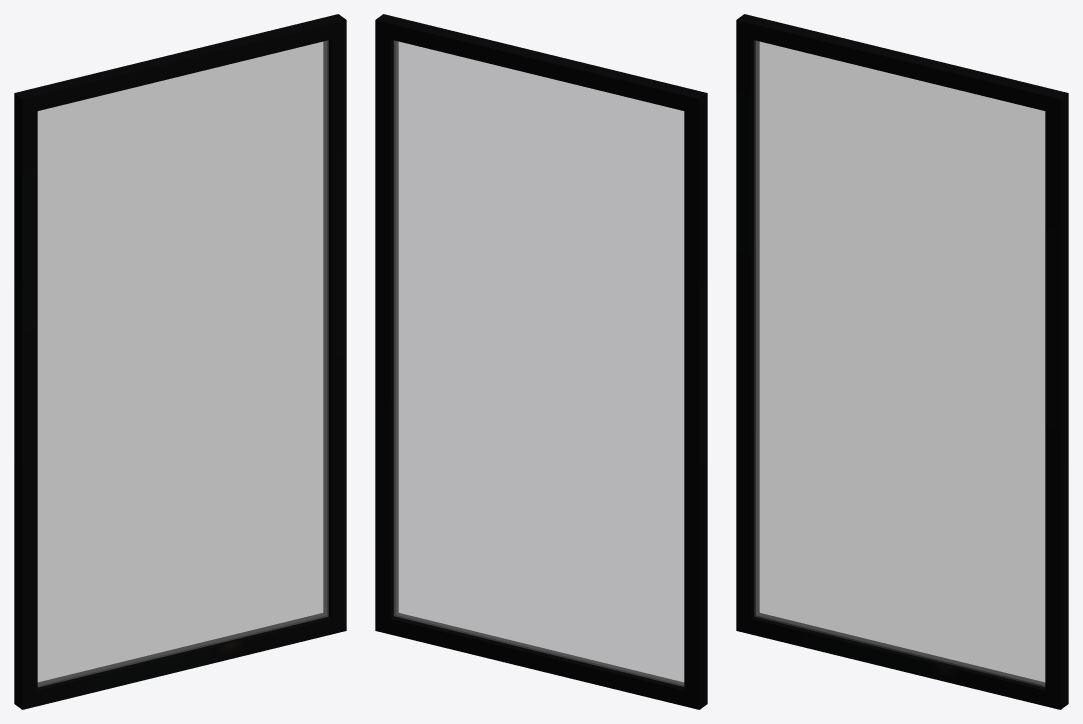
The model's file is door.glb.
The picture shows the model from 3 angles, left to right: view 1: azimuth 30°, elevation 25°; view 2: azimuth 150°, elevation 25°; view 3: azimuth 330°, elevation 25°; orthographic projection.
Visible parts, largest first — view 1: exhibition_door_geo; view 2: exhibition_door_geo; view 3: exhibition_door_geo.
Part boxes in pixels (x1,y1,x2,y2): exhibition_door_geo: (14,14,346,709); exhibition_door_geo: (375,14,707,709); exhibition_door_geo: (736,14,1068,709).
Bounding box in the file's own units: 1.9 × 3.41 × 0.0837.
2 materials, 1 textured.
